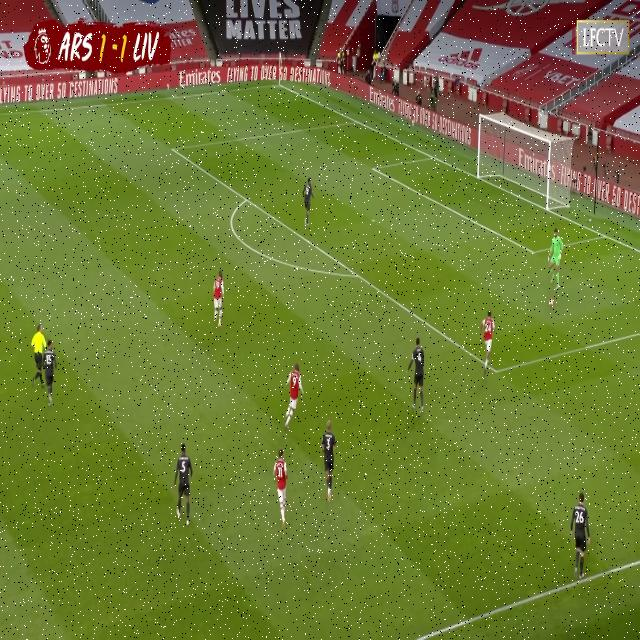Ball: (547, 295, 557, 308)
GoalKeeper: (546, 230, 564, 290)
TEAM 1: (286, 364, 305, 432), (273, 450, 289, 529), (481, 310, 495, 372), (213, 268, 226, 328)
TEAM 2: (569, 495, 591, 582), (172, 446, 192, 526), (408, 341, 425, 418), (322, 421, 338, 500), (43, 338, 59, 404), (302, 177, 315, 226)
